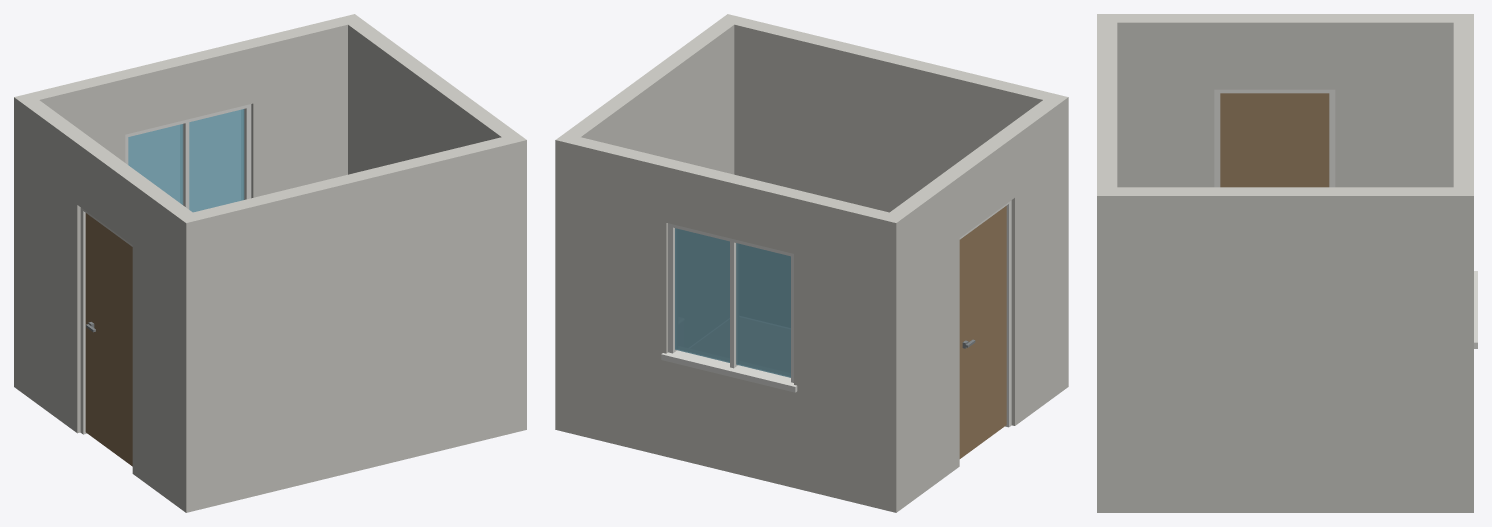
File: oursv11b.glb
3 renders of one model, left to right at view 1: azimuth 30°, elevation 25°; view 2: azimuth 150°, elevation 25°; view 3: azimuth 270°, elevation 25°, orthographic. The views are drawn at different scales.
Parts seen in each view (by area): view 1: wall|scenesmith_059__R00|0, wall|scenesmith_059__R00|2, wall|scenesmith_059__R00|1, wall|scenesmith_059__R00|3, wall|scenesmith_059__R00|2 Door 0 | wood leaf, wall|scenesmith_059__R00|1 Window 0 | glazing, wall|scenesmith_059__R00|1 Window 0 | jamb, wall|scenesmith_059__R00|2 Door 0 | jamb; view 2: wall|scenesmith_059__R00|1, wall|scenesmith_059__R00|0, wall|scenesmith_059__R00|2, wall|scenesmith_059__R00|3, wall|scenesmith_059__R00|1 Window 0 | glazing, wall|scenesmith_059__R00|2 Door 0 | wood leaf, wall|scenesmith_059__R00|1 Window 0 | jamb, wall|scenesmith_059__R00|2 Door 0 | jamb; view 3: wall|scenesmith_059__R00|3, wall|scenesmith_059__R00|2, wall|scenesmith_059__R00|2 Door 0 | wood leaf, wall|scenesmith_059__R00|0, wall|scenesmith_059__R00|1, wall|scenesmith_059__R00|2 Door 0 | jamb.
Boxes of the visible parts, <box> form: wall|scenesmith_059__R00|0: <box>177,133,526,512</box>; wall|scenesmith_059__R00|2: <box>23,100,201,511</box>; wall|scenesmith_059__R00|1: <box>14,14,363,393</box>; wall|scenesmith_059__R00|3: <box>348,21,517,174</box>; wall|scenesmith_059__R00|2 Door 0 | wood leaf: <box>85,213,132,466</box>; wall|scenesmith_059__R00|1 Window 0 | glazing: <box>128,109,244,212</box>; wall|scenesmith_059__R00|1 Window 0 | jamb: <box>125,104,251,209</box>; wall|scenesmith_059__R00|2 Door 0 | jamb: <box>80,207,132,434</box>; wall|scenesmith_059__R00|1: <box>556,133,905,512</box>; wall|scenesmith_059__R00|0: <box>718,14,1068,393</box>; wall|scenesmith_059__R00|2: <box>880,93,1067,512</box>; wall|scenesmith_059__R00|3: <box>555,18,741,433</box>; wall|scenesmith_059__R00|1 Window 0 | glazing: <box>675,228,790,377</box>; wall|scenesmith_059__R00|2 Door 0 | wood leaf: <box>959,206,1006,458</box>; wall|scenesmith_059__R00|1 Window 0 | jamb: <box>661,223,797,392</box>; wall|scenesmith_059__R00|2 Door 0 | jamb: <box>959,200,1011,427</box>; wall|scenesmith_059__R00|3: <box>1097,187,1473,512</box>; wall|scenesmith_059__R00|2: <box>1097,14,1453,187</box>; wall|scenesmith_059__R00|2 Door 0 | wood leaf: <box>1220,93,1329,187</box>; wall|scenesmith_059__R00|0: <box>1097,22,1117,512</box>; wall|scenesmith_059__R00|1: <box>1453,14,1473,420</box>; wall|scenesmith_059__R00|2 Door 0 | jamb: <box>1214,89,1335,187</box>.
Bounding box in the file's own units: 3.2 × 2.61 × 2.83.
